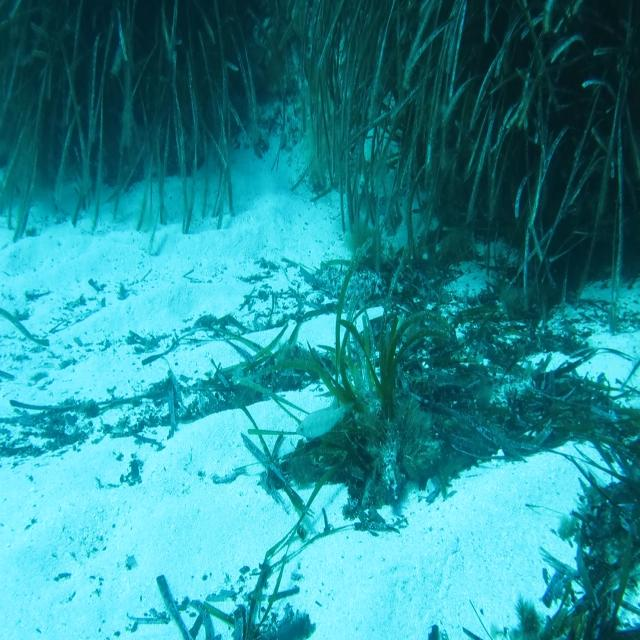SA: (296, 396, 352, 448)
vegetation: (286, 0, 639, 224), (0, 2, 265, 176), (470, 225, 640, 421), (340, 226, 460, 374), (542, 516, 640, 640)
